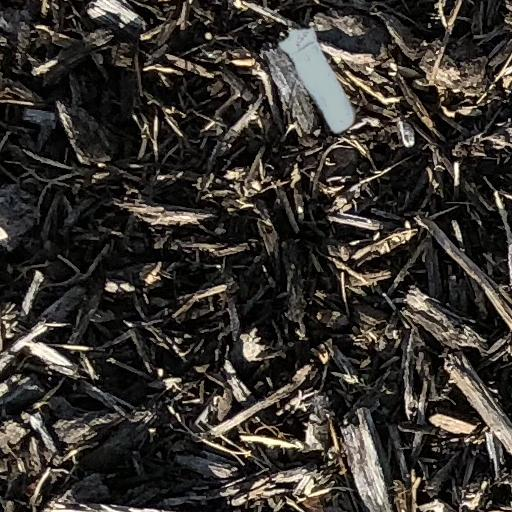smoke: (279, 28, 354, 133)
